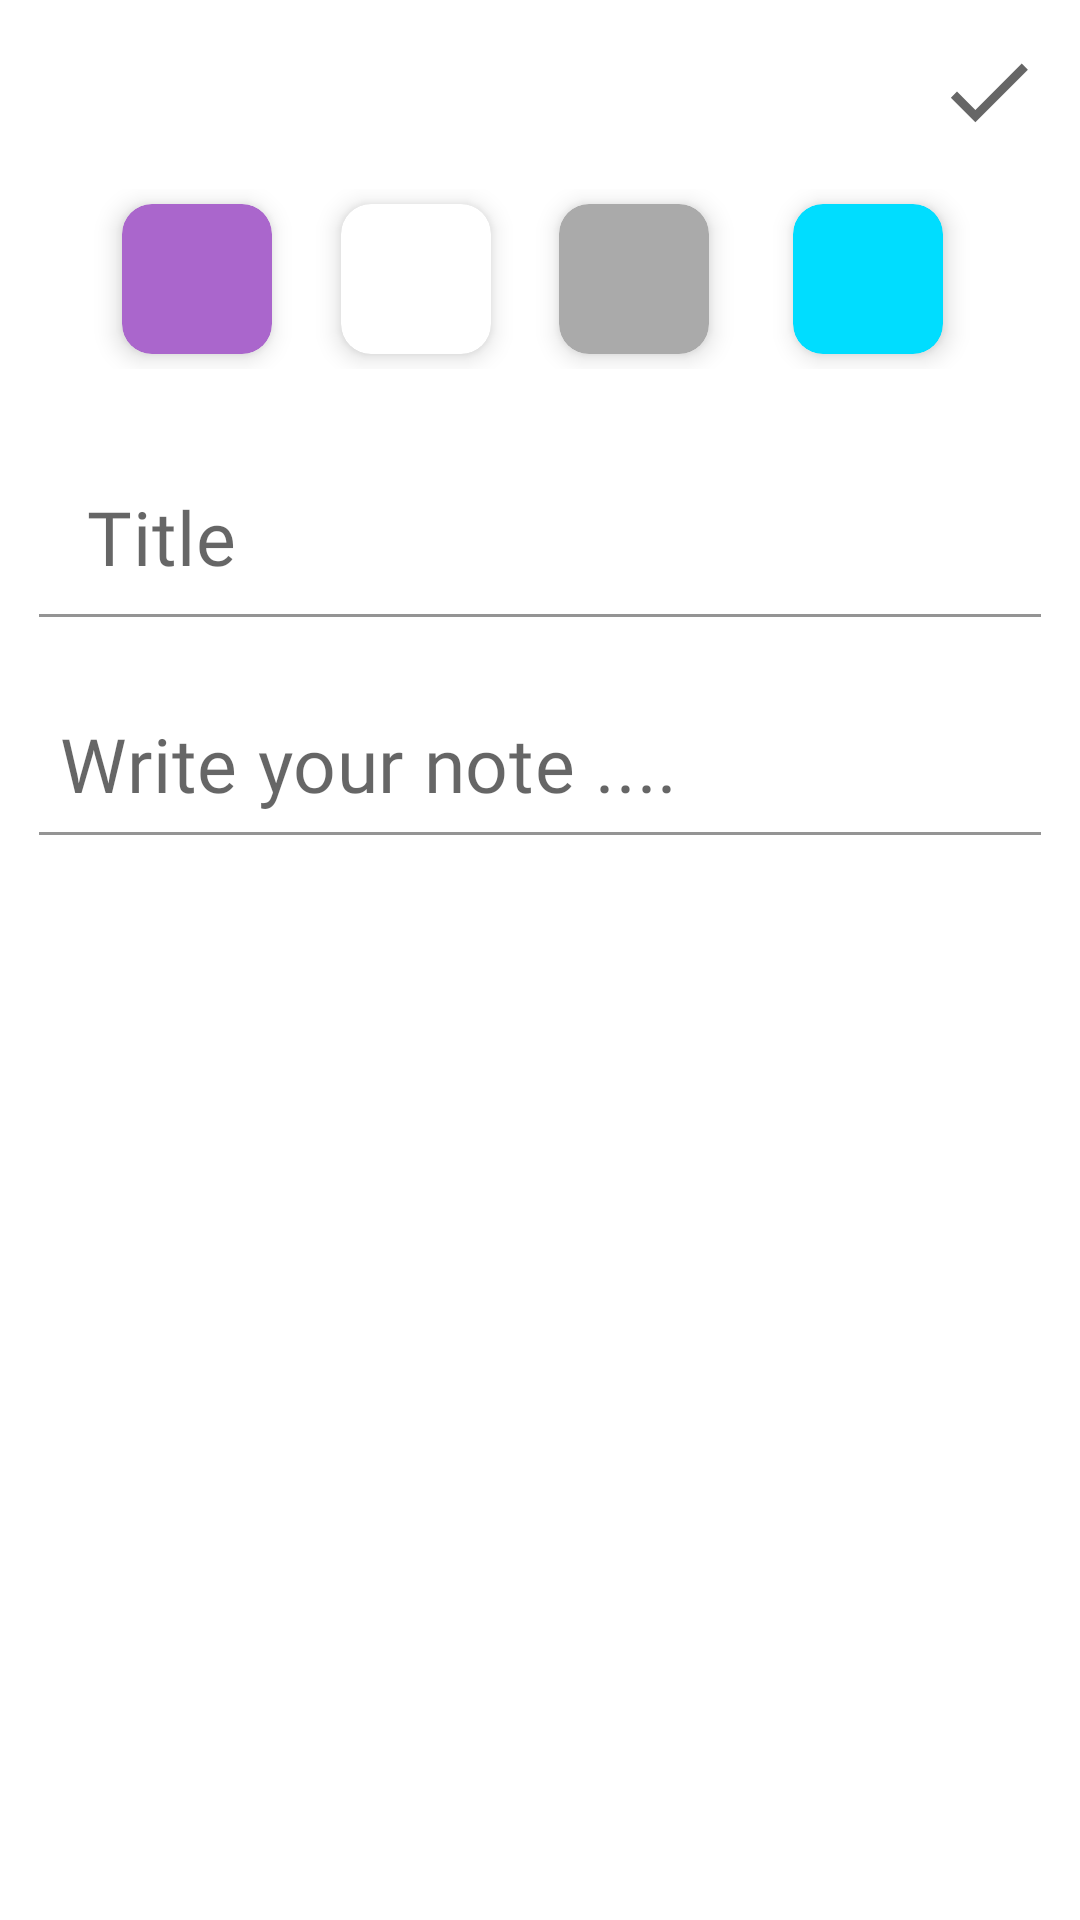

Where icons sit on this 1080px x 1920px app screen, as (x1, y1, x2, y2):
done: (951, 63, 1028, 122)
